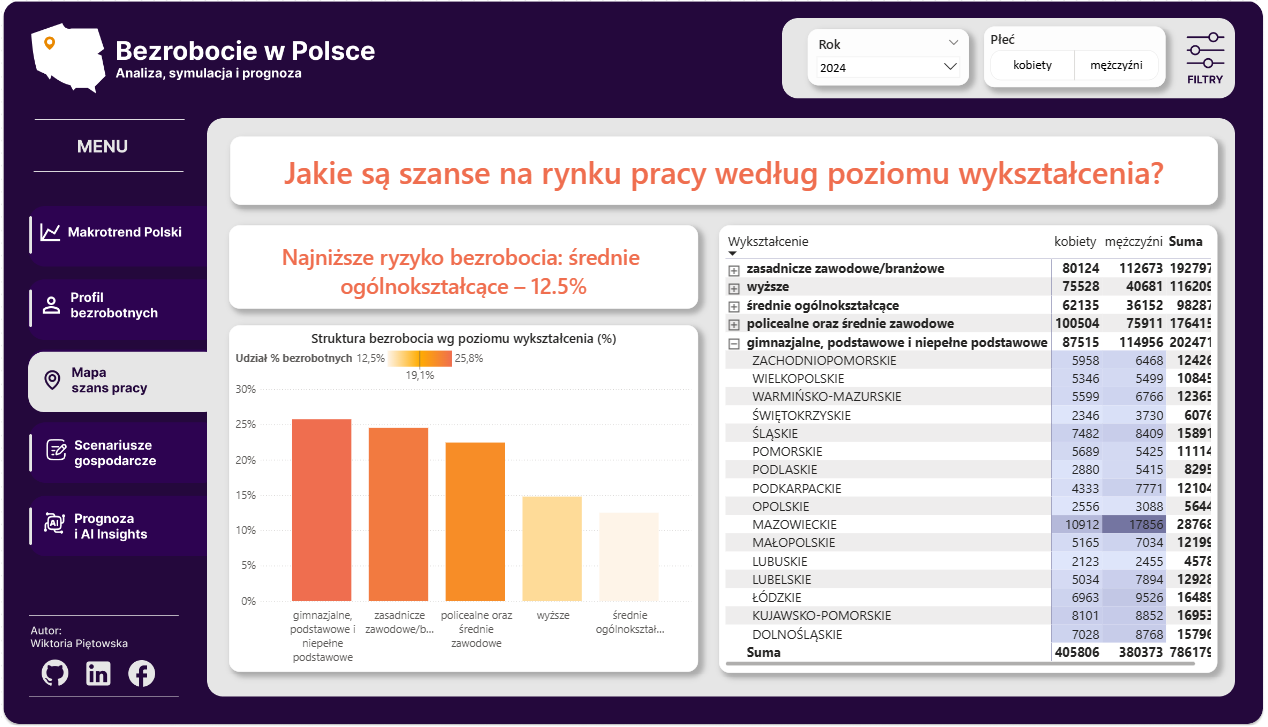

This screenshot's page, from the dashboard's own definition file:
{"tool":"powerbi","page":{"name":"Strona 3","canvas":[2360,1360],"ordinal":2},"visuals":[{"type":"image","box":[0,0,2360,1360],"z":0},{"type":"columnChart","title":"Struktura bezrobocia wg poziomu wykształcenia (%)","fields":{"Category":["WyksztalceniePlec.n1"],"Y":["#Miary.Udzial_%_Bezrobotnych_Wg_Wyksztalcenia"]},"box":[427.5,607.5,872.5,645],"z":2000},{"type":"shape","box":[50,520,335,107.5],"z":3000},{"type":"shape","box":[51.4,382.9,334.3,107.1],"z":4000},{"type":"shape","box":[72.5,1222.5,65,61.2],"z":5000},{"type":"shape","box":[155,1222.5,62.5,61.2],"z":6000},{"type":"card","fields":{"Values":["#Miary.Najlepsze_Szanse_%_Tekst"]},"box":[427.5,420,872.5,155],"z":7000},{"type":"advancedSlicerVisual","title":"Płeć","fields":{"Values":["WyksztalceniePlec.n2"]},"box":[1832.5,50,337.5,112.5],"z":8000},{"type":"slicer","fields":{"Values":["WyksztalceniePlec.Rok"]},"box":[1505,55,300,105],"z":9000},{"type":"pivotTable","fields":{"Rows":["WyksztalceniePlec.n1","WyksztalceniePlec.Województwo"],"Columns":["WyksztalceniePlec.n2"],"Values":["Sum(WyksztalceniePlec.Wartość)"]},"box":[1340,420,927.5,832.5],"z":10000},{"type":"shape","box":[2187.5,42.5,105,130],"z":11000},{"type":"card","fields":{"Values":["#MiaryTytuly.Tytul6"]},"box":[430,255,1837.5,127.5],"z":13000},{"type":"shape","box":[52.5,785,335,107.5],"z":14000},{"type":"shape","box":[52.5,930,335,107.5],"z":15000}]}

Visuals, with their boxes in screenshot pixels (x1, y1, x2, y2), scaled from the page's 2360x1360 canvas onto the 1268x727 screenshot:
image: bbox=(0, 0, 1267, 726)
"Struktura bezrobocia wg poziomu wykształcenia (%)" columnChart: bbox=(230, 325, 698, 670)
shape: bbox=(27, 278, 207, 335)
shape: bbox=(28, 205, 207, 262)
shape: bbox=(39, 653, 74, 686)
shape: bbox=(83, 653, 117, 686)
card - #Miary.Najlepsze_Szanse_%_Tekst: bbox=(230, 225, 698, 307)
"Płeć" advancedSlicerVisual: bbox=(985, 27, 1166, 87)
slicer - WyksztalceniePlec.Rok: bbox=(809, 29, 970, 86)
pivotTable - WyksztalceniePlec.n1 x WyksztalceniePlec.Województwo: bbox=(720, 225, 1218, 670)
shape: bbox=(1175, 23, 1232, 92)
card - #MiaryTytuly.Tytul6: bbox=(231, 136, 1218, 204)
shape: bbox=(28, 420, 208, 477)
shape: bbox=(28, 497, 208, 555)
